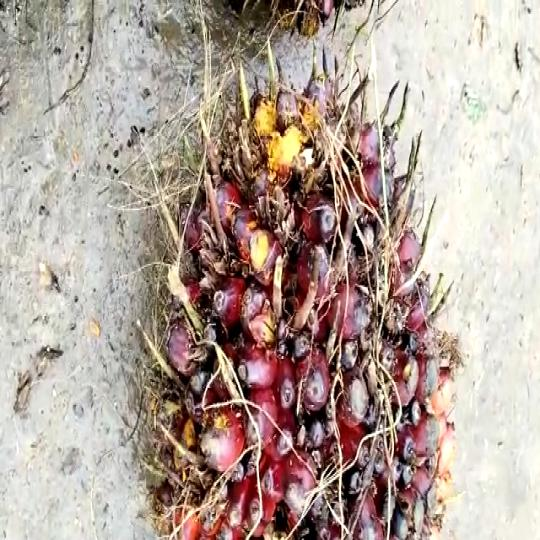kurang masak: (132, 66, 452, 540)
